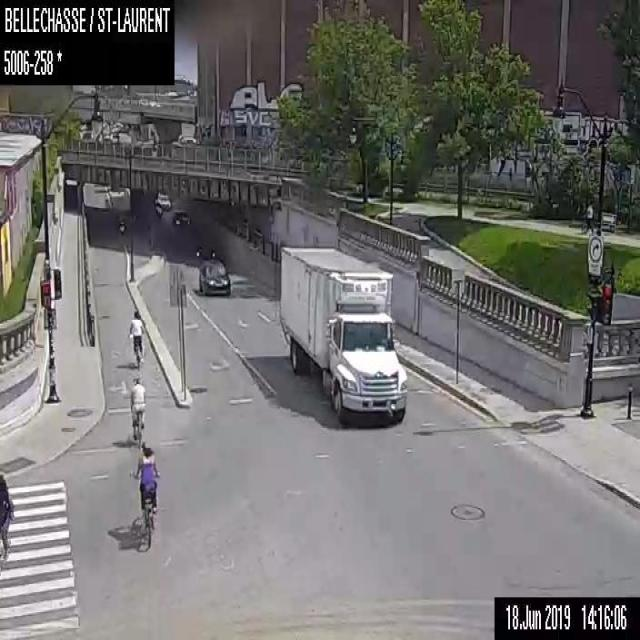cyclist: (130, 441, 160, 546), (0, 472, 15, 559), (129, 376, 145, 448), (129, 311, 145, 369)
vehicle: (280, 248, 407, 422), (198, 259, 230, 295), (173, 210, 189, 228), (154, 192, 170, 209)
